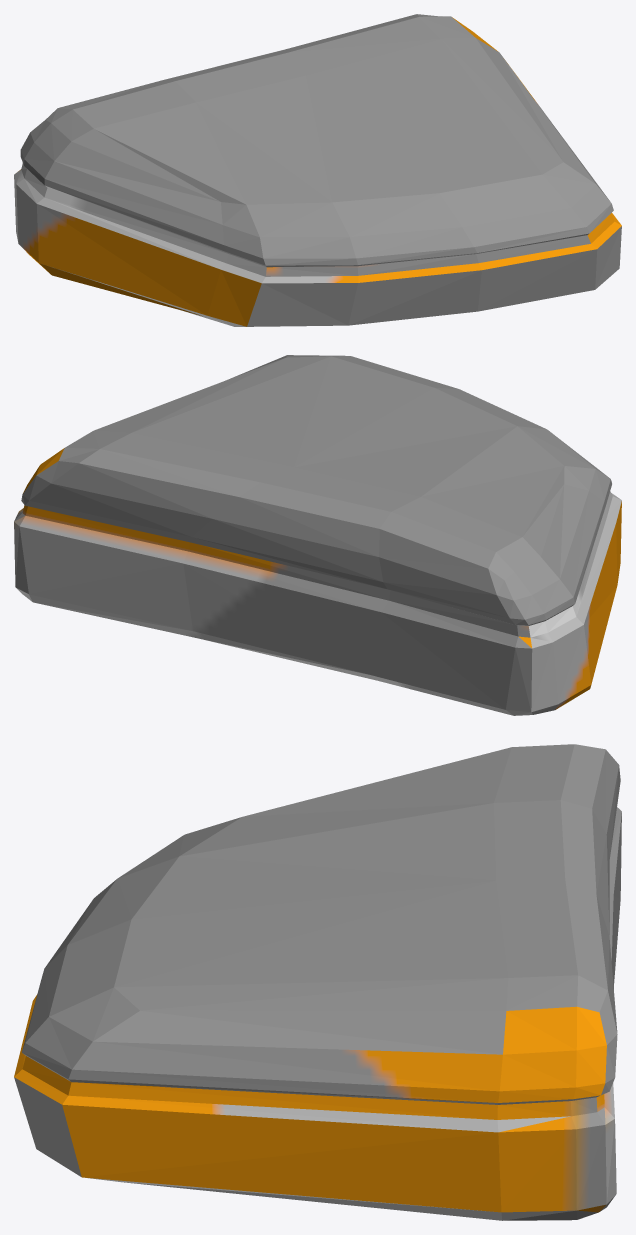
Rendered from RightToe.obj.
The picture shows the model from 3 angles, top to bottom: view 1: azimuth 30°, elevation 25°; view 2: azimuth 150°, elevation 25°; view 3: azimuth 270°, elevation 25°; orthographic projection. The views are drawn at different scales.
Parts seen in each view (by area): view 1: RightToe_Mesh.482; view 2: RightToe_Mesh.482; view 3: RightToe_Mesh.482.
Part boxes in pixels (x1,y1,x2,y2): RightToe_Mesh.482: [14, 14, 621, 326]; RightToe_Mesh.482: [14, 355, 621, 715]; RightToe_Mesh.482: [14, 744, 621, 1220].
Size of the model in its own units: 0.0943 by 0.0269 by 0.0725.
1 material, 1 textured.
